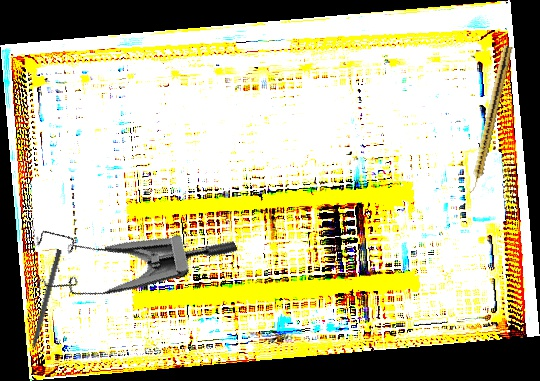Handpiece: (466, 44, 513, 195)
Hook Surgical: (25, 248, 63, 363)
Speculum: (17, 160, 240, 334)
